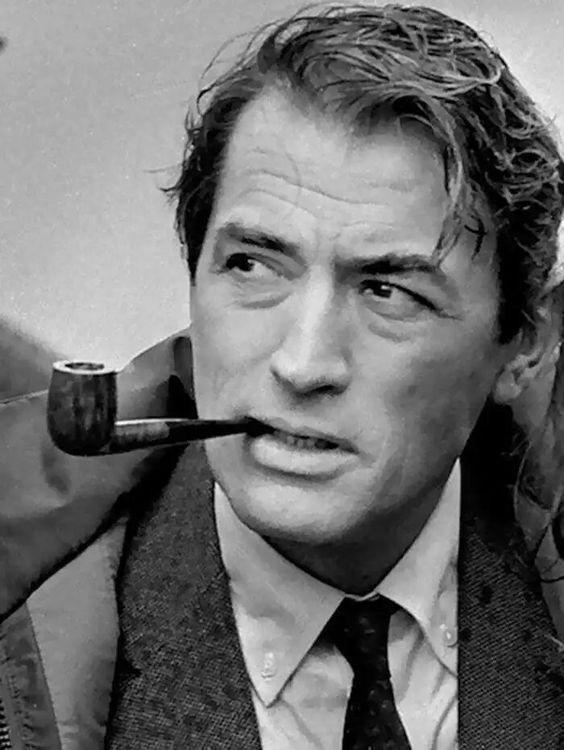trubka: (47, 359, 275, 457)
